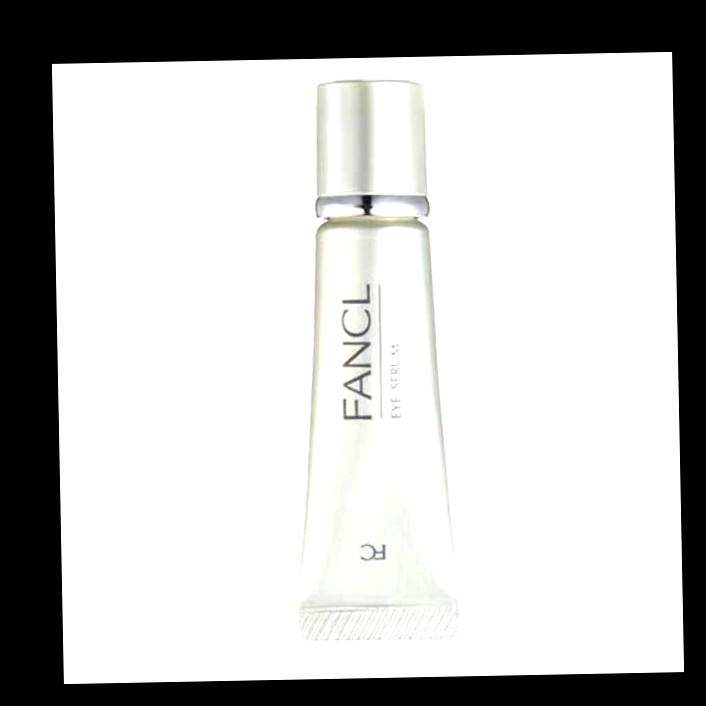cosmetic: (297, 77, 459, 645)
